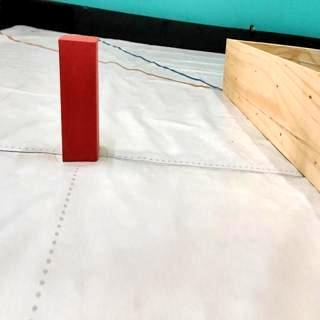redbox: (57, 32, 99, 161)
